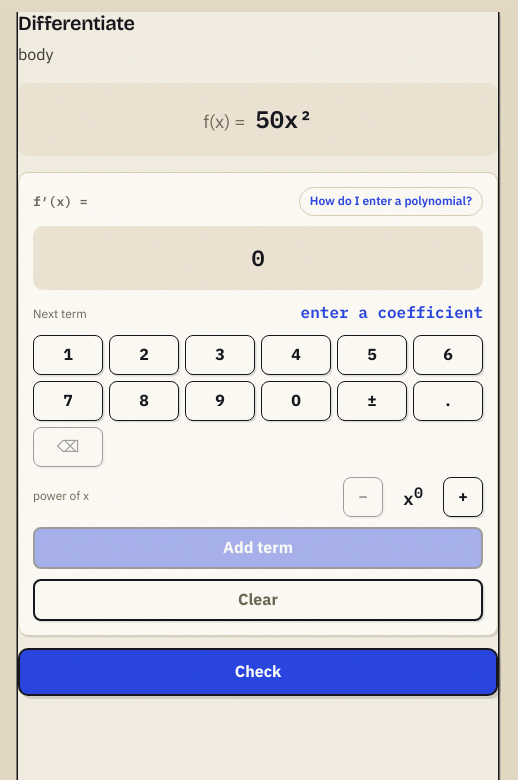
it: PolynomialDerivativeSlide — decimals & large coefficients grade in context › grades a derivative with a large (≤100) coefficient correctly (50x² → 100x)
Click the button "1". click: (68, 355)
box: [33,335,103,375]
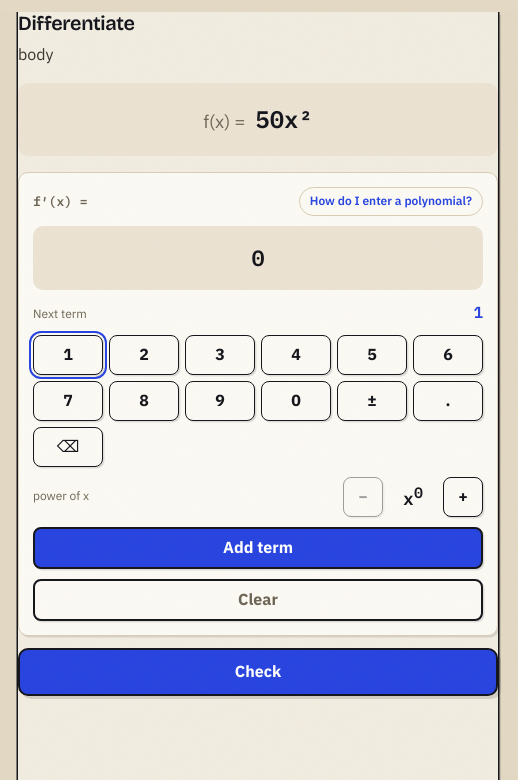
Click the button "0". click: (296, 401)
box: [261,381,331,421]
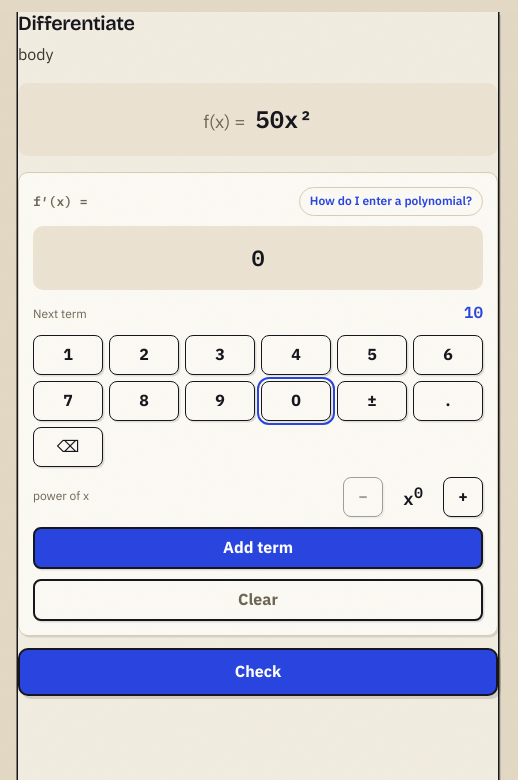
Click the button "0". click: (296, 401)
box: [261,381,331,421]
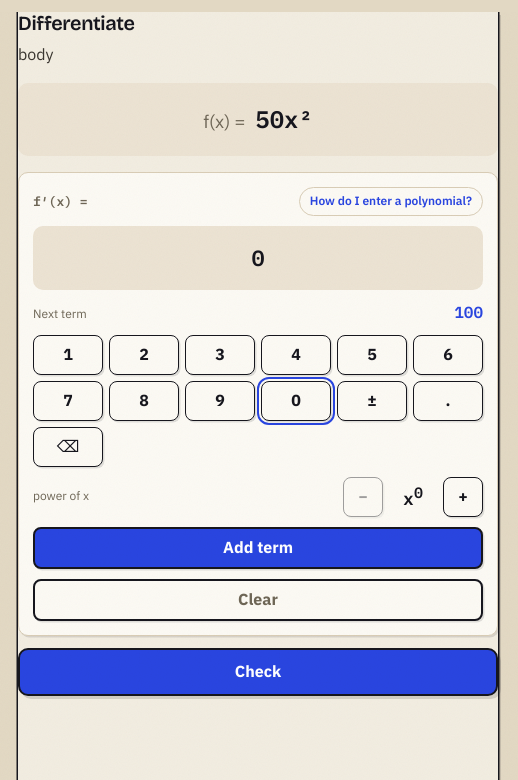
Click the button named "increase power". click: (463, 497)
box: [443,477,483,517]
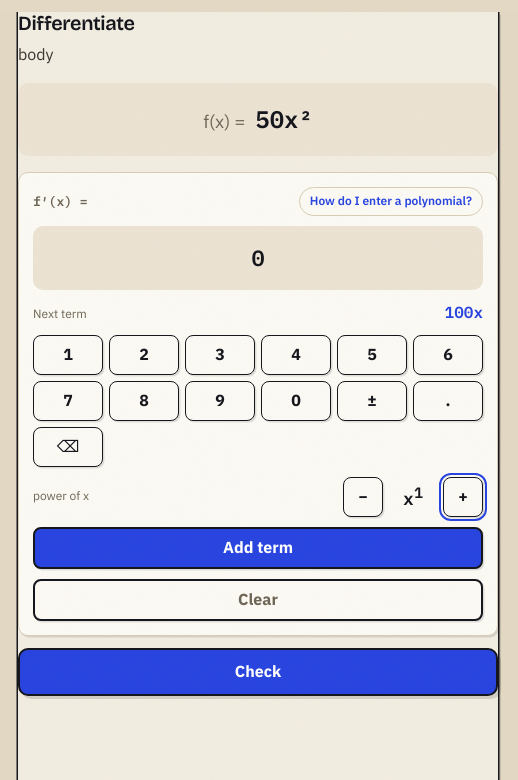
Click the button "Add term". click: (258, 548)
box: [33,527,483,569]
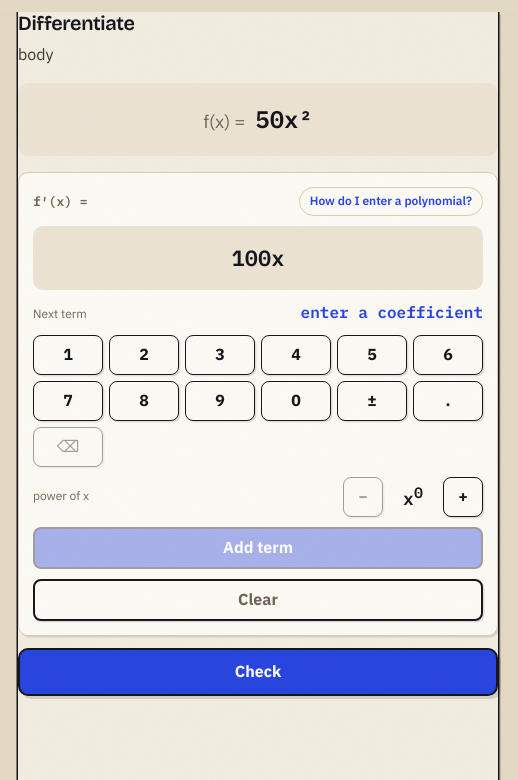
Click the button "Check". click: (258, 672)
box: [18,648,498,696]
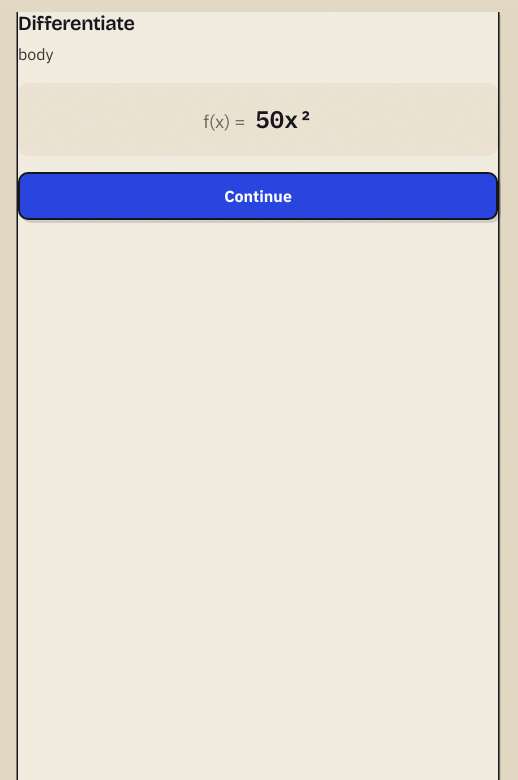
Expected: the button "Continue" is shown, [18,172,498,220]
